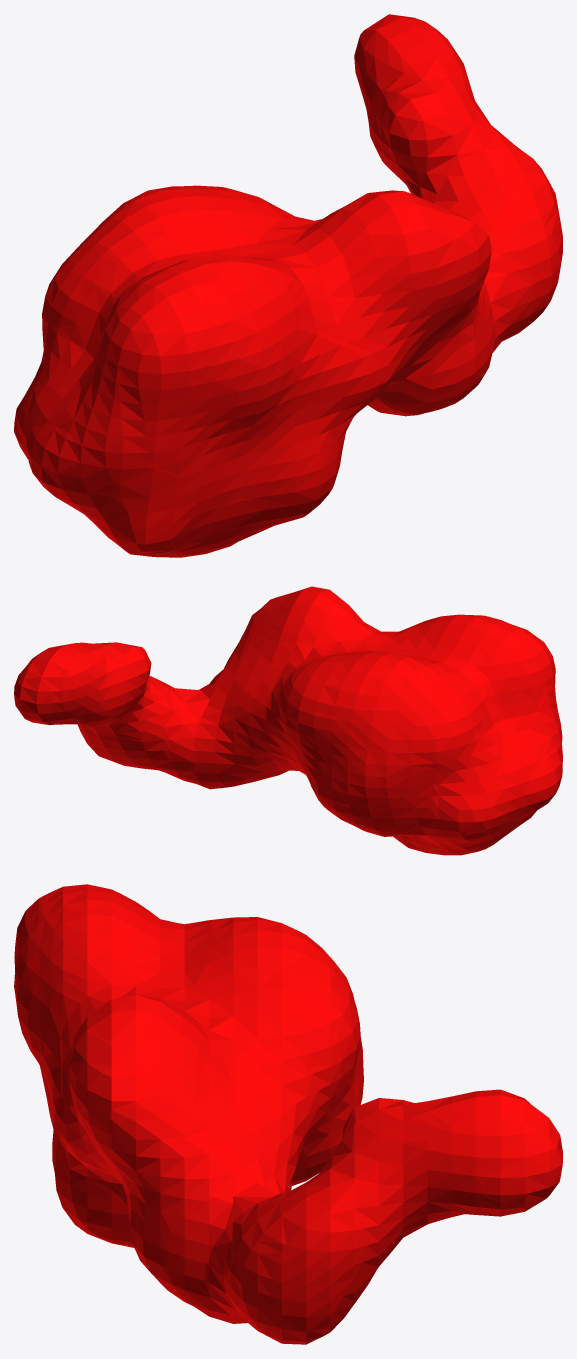
The model's file is yddM_coarse.dae.
3 views of the same model, one above another, from view 1: azimuth 30°, elevation 25°; view 2: azimuth 150°, elevation 25°; view 3: azimuth 270°, elevation 25° (orthographic). The views are drawn at different scales.
Parts seen in each view (by area): view 1: yddM; view 2: yddM; view 3: yddM.
Part boxes in pixels (left/top/right/bottom): yddM: left=14, top=14, right=562, bottom=557; yddM: left=14, top=586, right=562, bottom=855; yddM: left=14, top=884, right=562, bottom=1344.
Size of the model in its own units: 57.65 by 29.37 by 44.38.
